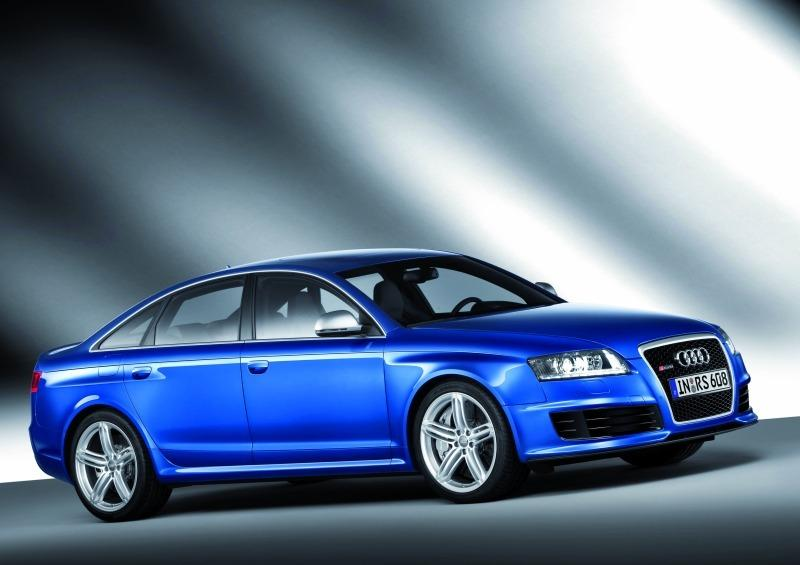Sedan: (27, 246, 758, 522)
